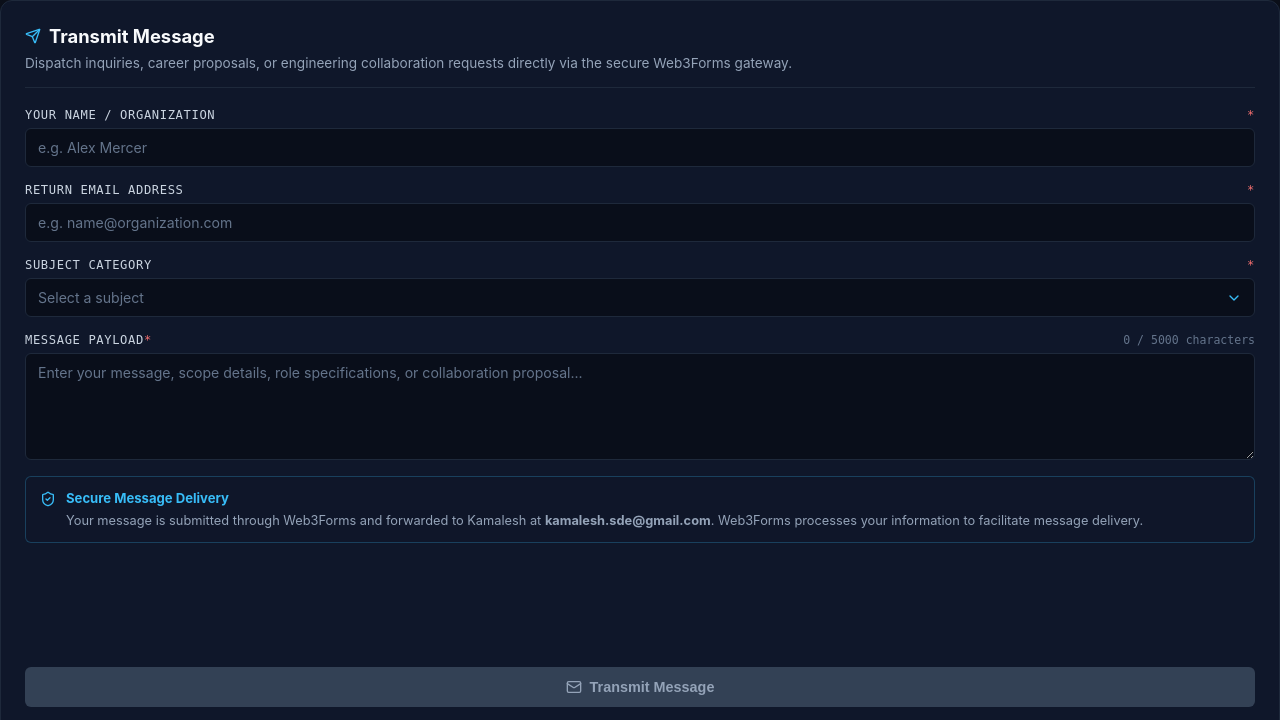
Test case: KAI HQ Feature Enhancement Batch Test Suite › Feature 4 & 6: Communication Center Web3Forms Transmission & Disclaimer › displays custom subject field when 'Others' is selected
Expected: the field labelled "Specify Custom Subject" is not shown
Select "Others" in the dropdown labelled "Subject Category *" at (88, 265), box [25,258,1255,272]
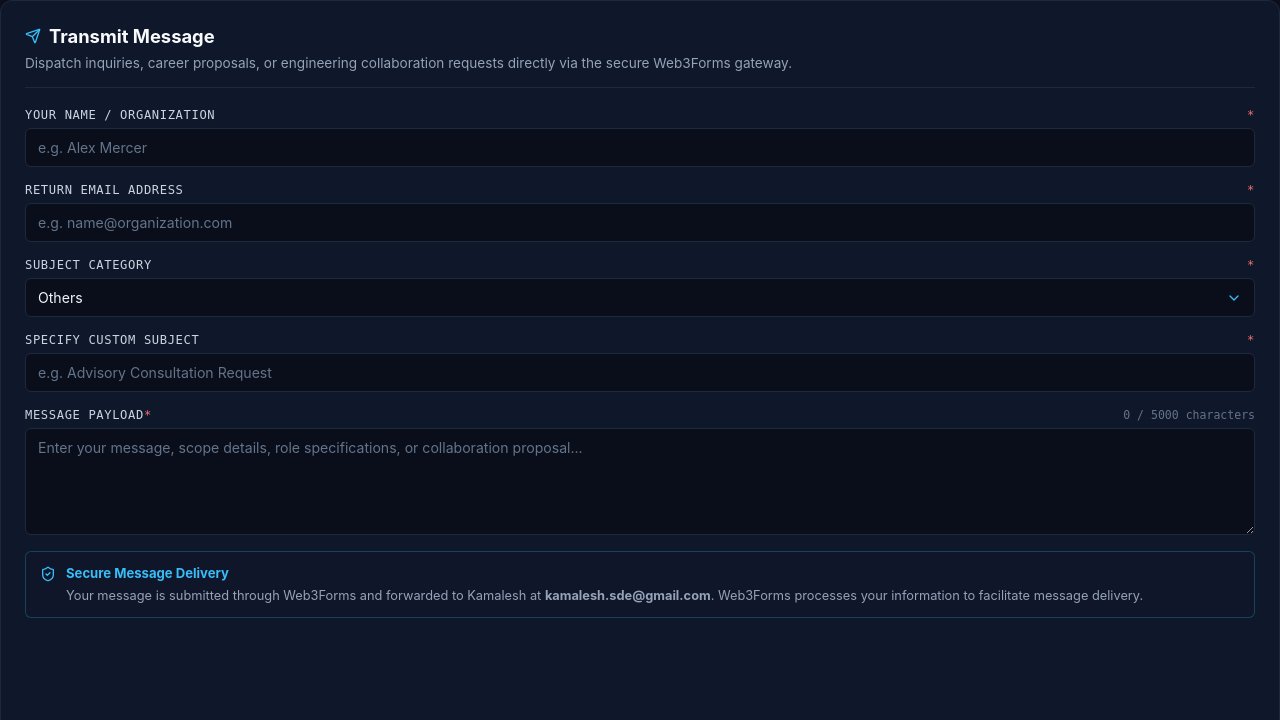
Expected: the field labelled "Specify Custom Subject *" is shown, [25,353,1255,392]
